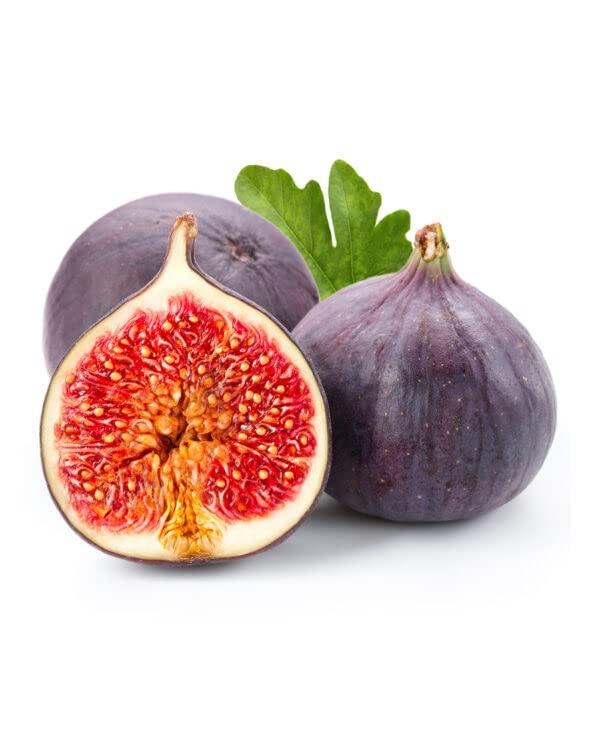fig: (38, 209, 332, 565), (288, 221, 557, 523), (41, 190, 320, 380)
